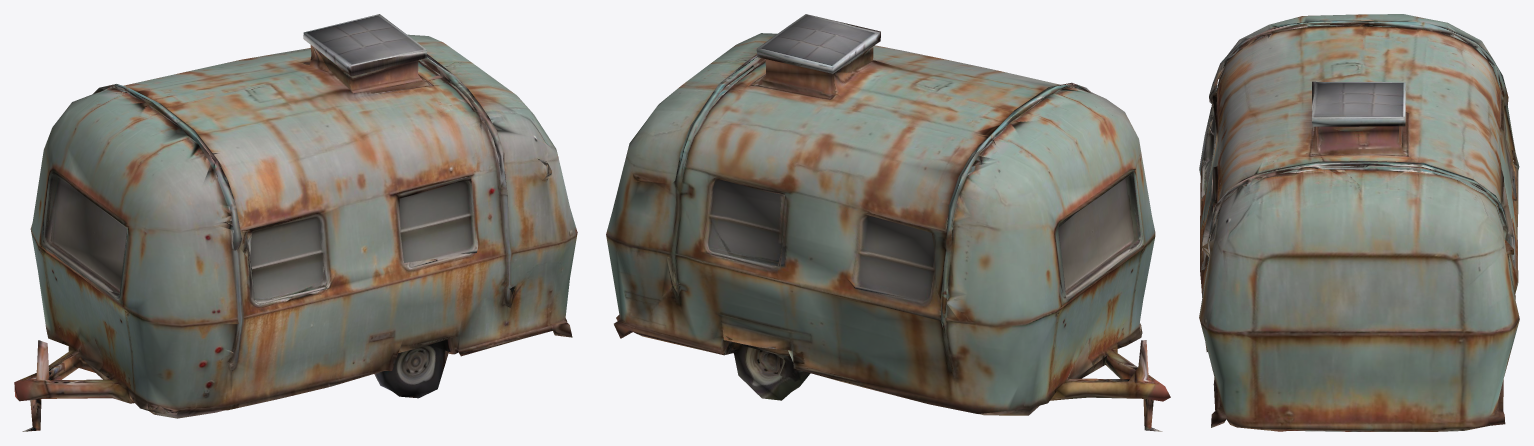
The model's file is make_a_1500_triangle__0607040623_texture.fbx.
3 renders of one model, left to right at view 1: azimuth 30°, elevation 25°; view 2: azimuth 150°, elevation 25°; view 3: azimuth 270°, elevation 25°, orthographic. The views are drawn at different scales.
Visible parts, largest first — view 1: Mesh1; view 2: Mesh1; view 3: Mesh1.
Part boxes in pixels (<box>): Mesh1: <box>14,14,577,431</box>; Mesh1: <box>606,14,1170,431</box>; Mesh1: <box>1199,14,1519,431</box>.
Bounding box in the file's own units: 200 × 121 × 116.
1 material, 1 textured.
